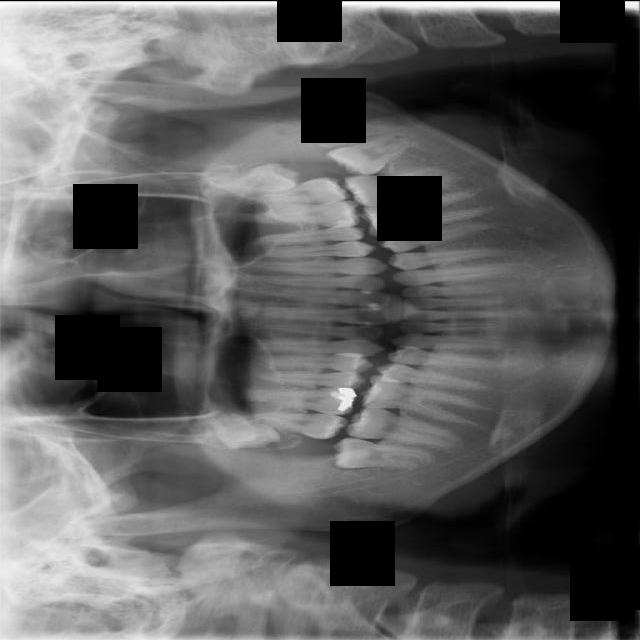3M ESPE Implant: (192, 401, 284, 463)
52: (343, 395, 398, 451), (359, 201, 407, 238), (313, 381, 360, 418), (360, 374, 410, 408), (343, 174, 395, 206), (313, 199, 361, 227), (333, 306, 392, 325), (334, 288, 392, 307)
73: (620, 15, 630, 24)
BioHorizons Implant: (237, 175, 349, 206)
BioLife Implant: (190, 160, 302, 196)
Biomet 3i Implant: (324, 127, 415, 186)
Blue Sky Bio Implant: (342, 164, 460, 209)
Caries: (240, 408, 350, 439)
Implant: (343, 402, 461, 447)
Keystone Dental Implant: (331, 436, 433, 471)
